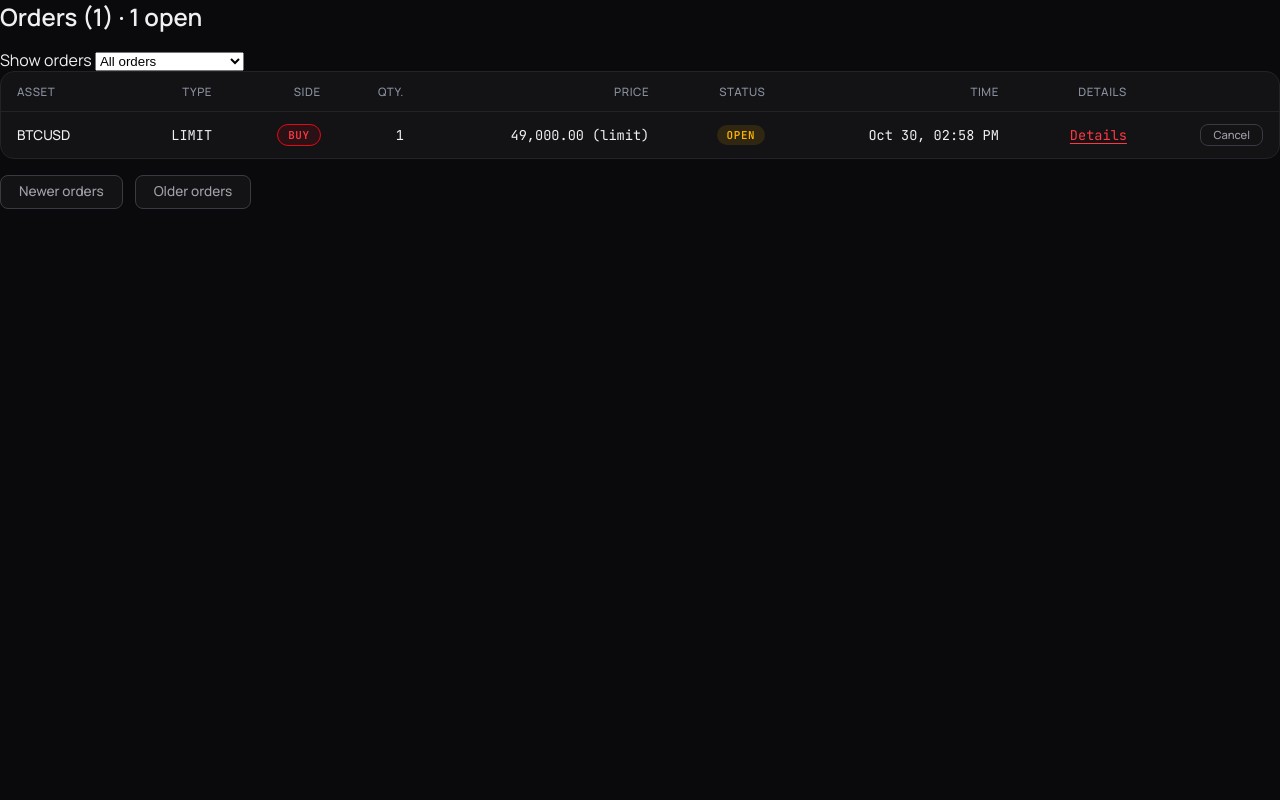
Test: Orders cancel outcome › a failed cancel surfaces the error and closes the dialog
What coordinates should you click on to do the following:
click the button "Cancel"
I would click on:
 (1232, 135)
Its box is top-left (1200, 124), bottom-right (1263, 146).
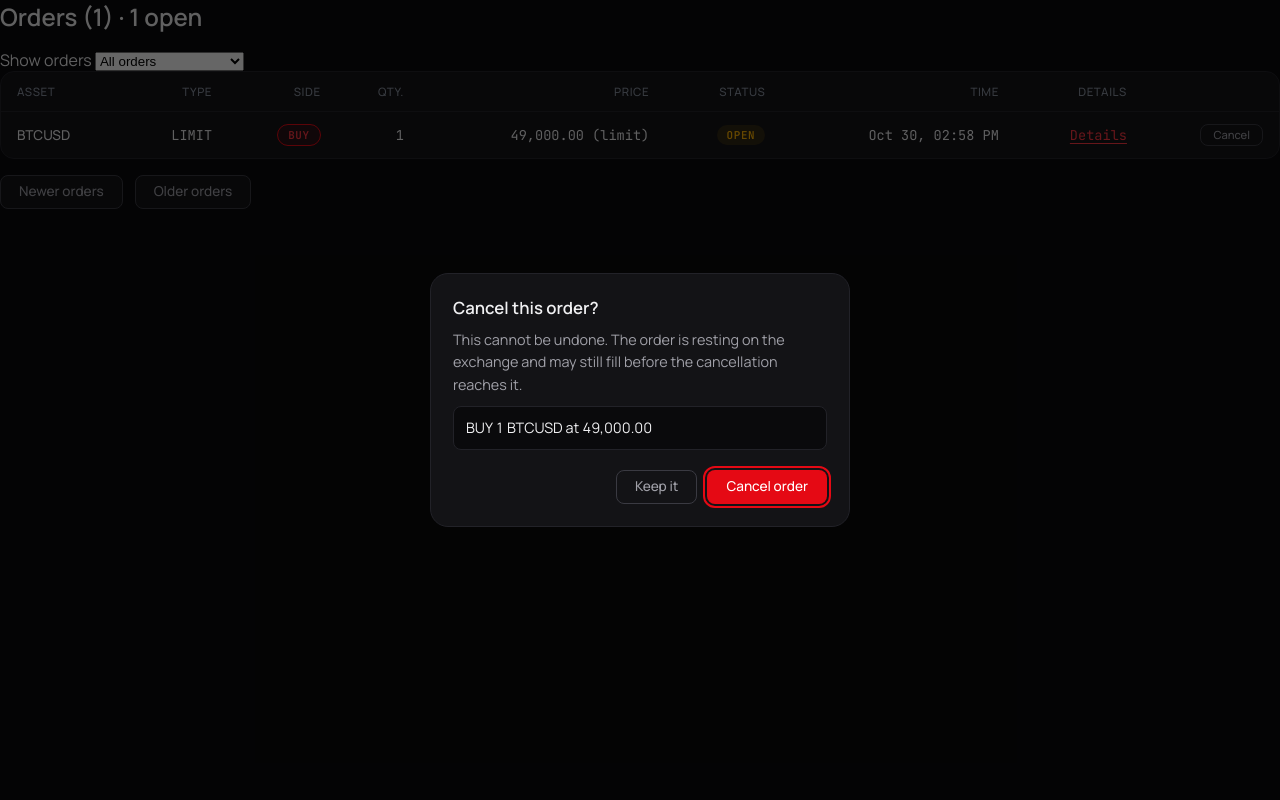
What coordinates should you click on to do the following:
click the button "Cancel order"
I would click on:
 (767, 487)
Its box is top-left (707, 470), bottom-right (827, 504).
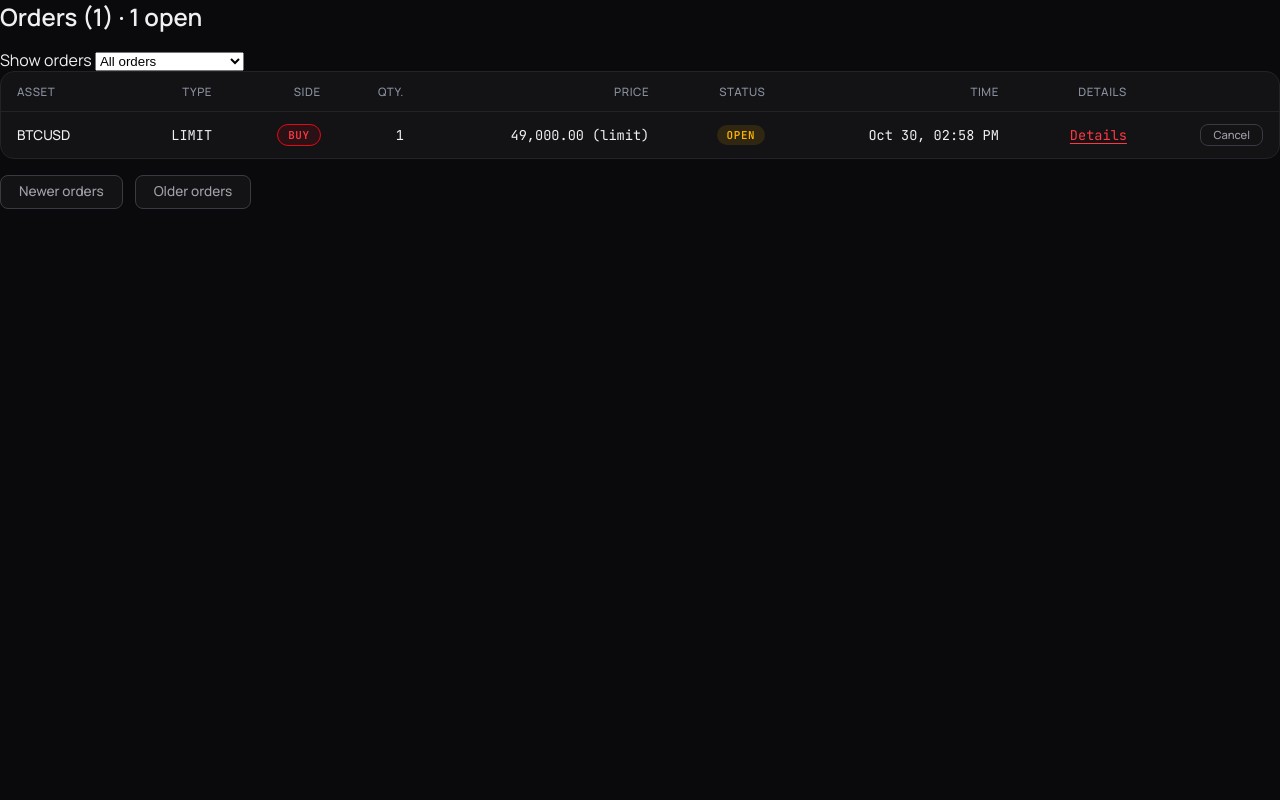
expect the dialog is gone: met
